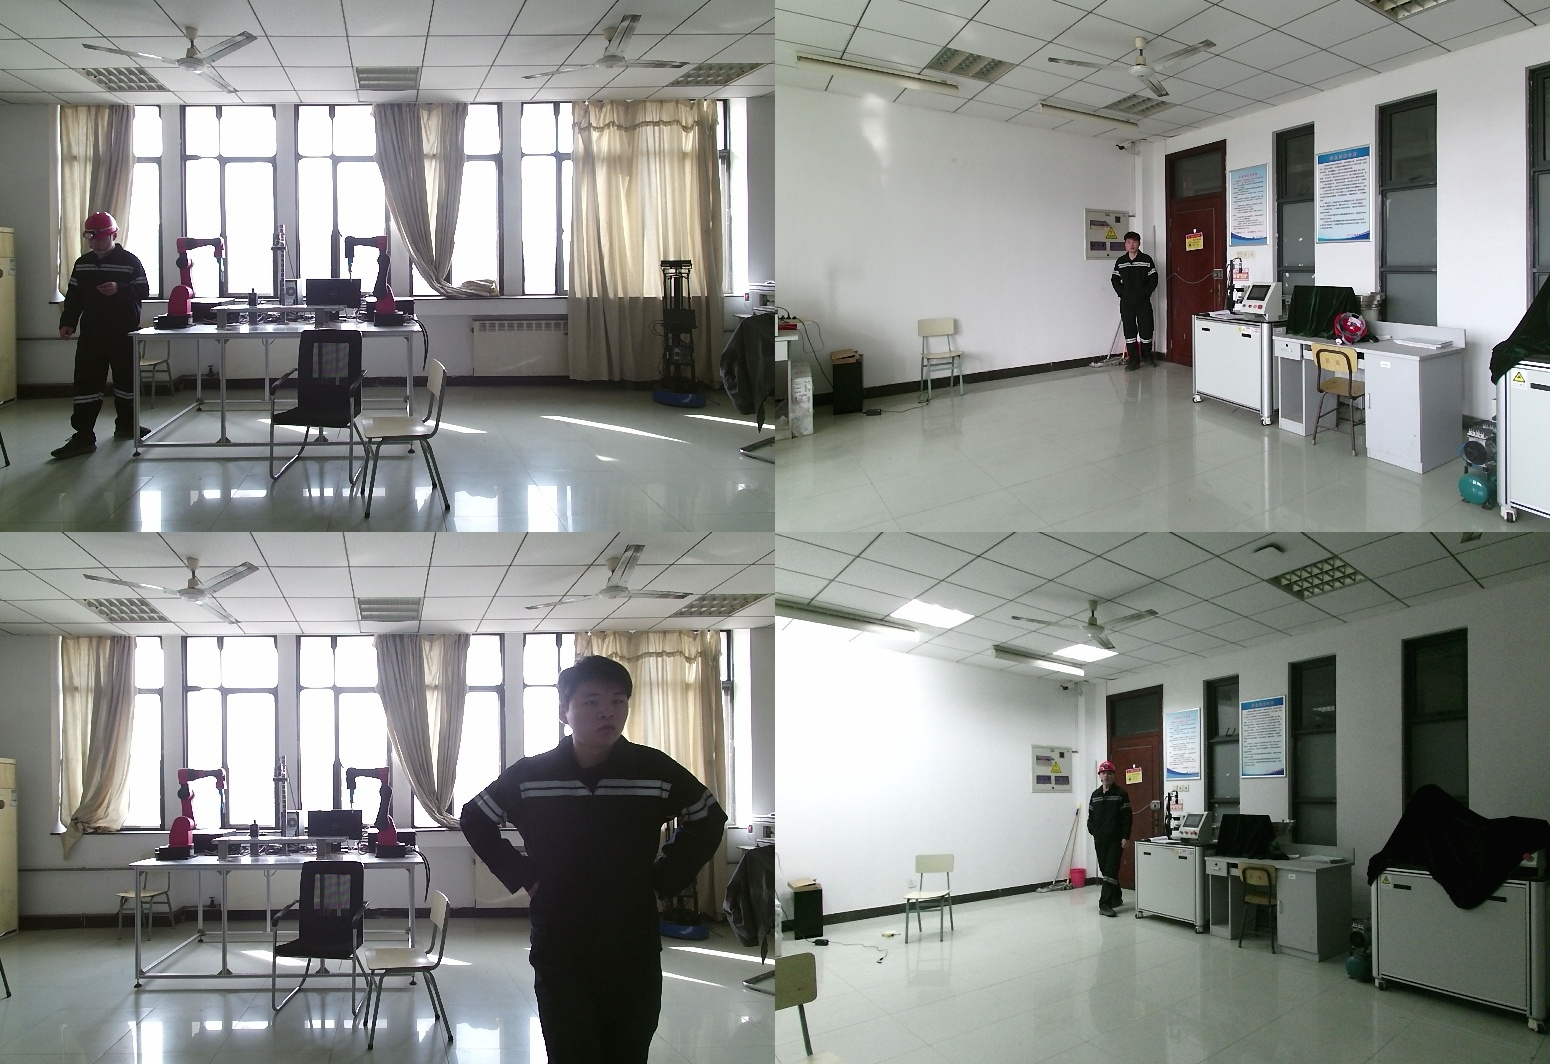person: (472, 660, 737, 1064), (58, 215, 151, 459), (1086, 762, 1140, 915), (1111, 232, 1163, 374)
